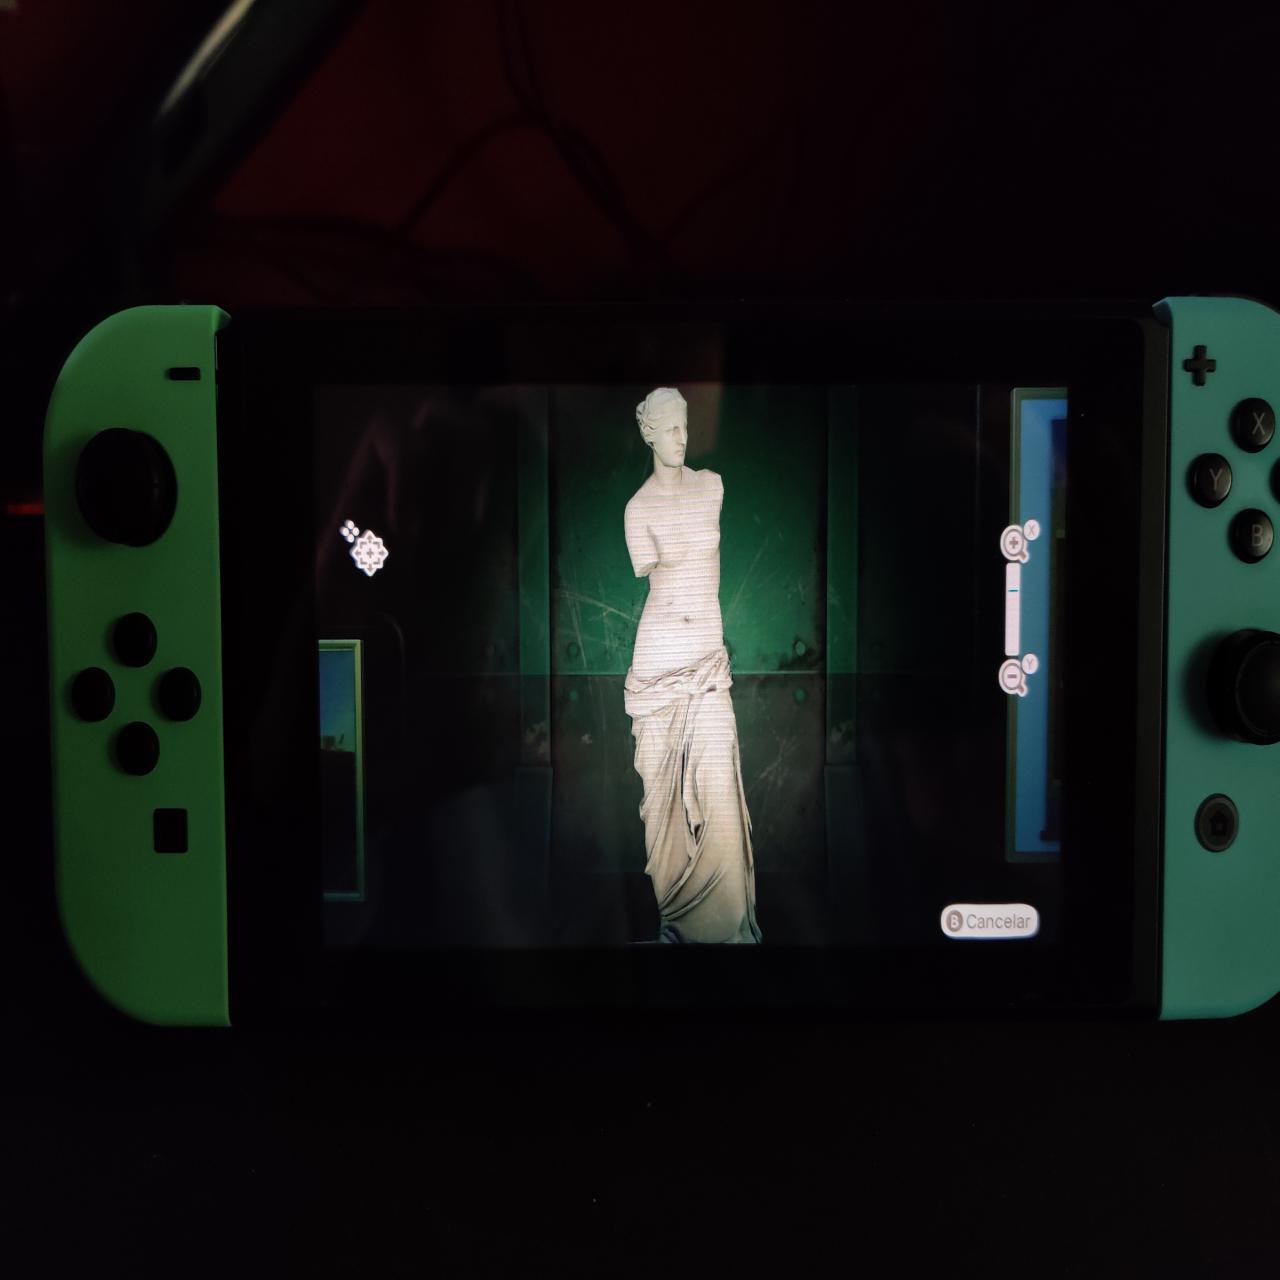Milo: (622, 379, 775, 947)
